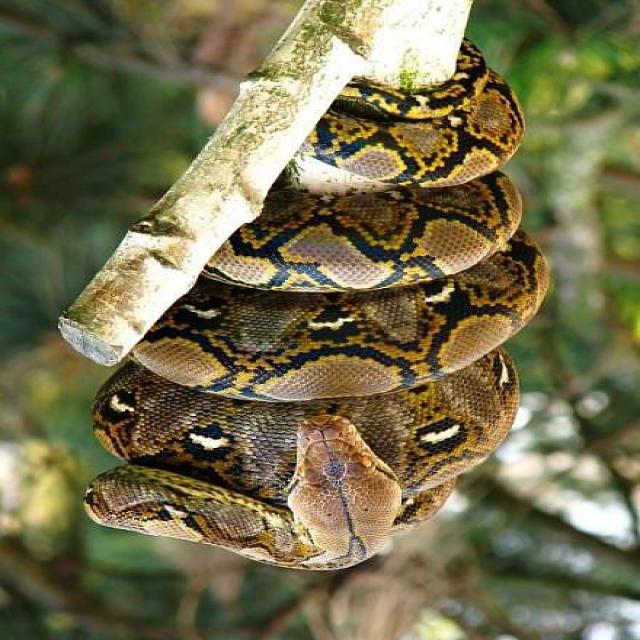Non-Venomous: (144, 78, 489, 588)
